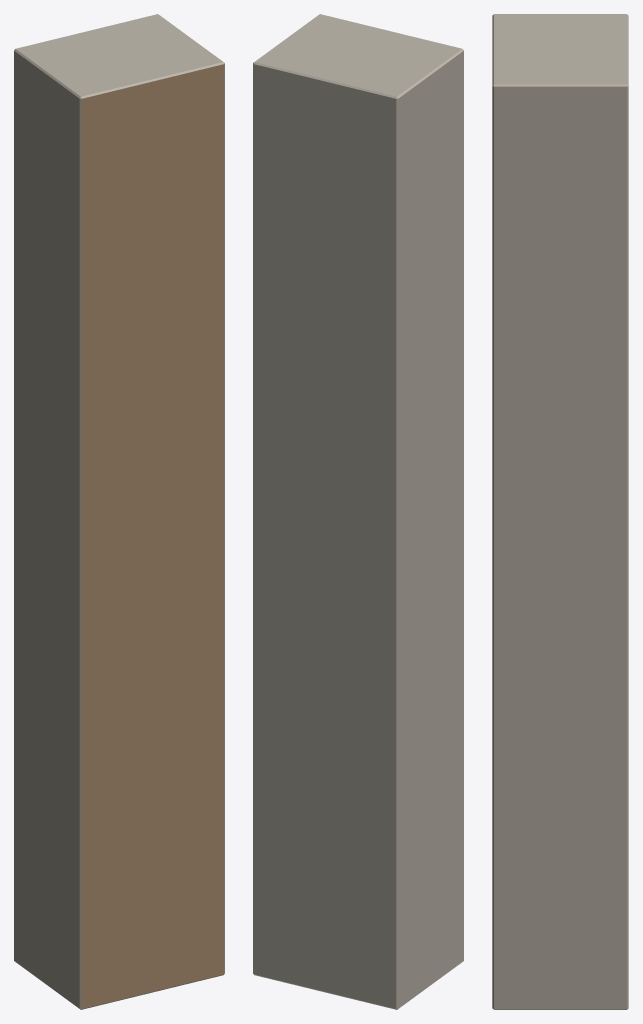
File: arch_wall_ext_w50_h300.glb
The picture shows the model from 3 angles, left to right: view 1: azimuth 30°, elevation 25°; view 2: azimuth 150°, elevation 25°; view 3: azimuth 270°, elevation 25°; orthographic projection.
Parts seen in each view (by area): view 1: Wall; view 2: Wall; view 3: Wall.
Part boxes in pixels (x1,y1,x2,y2): Wall: [14, 14, 224, 1009]; Wall: [253, 14, 463, 1009]; Wall: [492, 14, 628, 1009].
Size of what is drawn, in the model's own units: 0.5 by 3 by 0.4.
